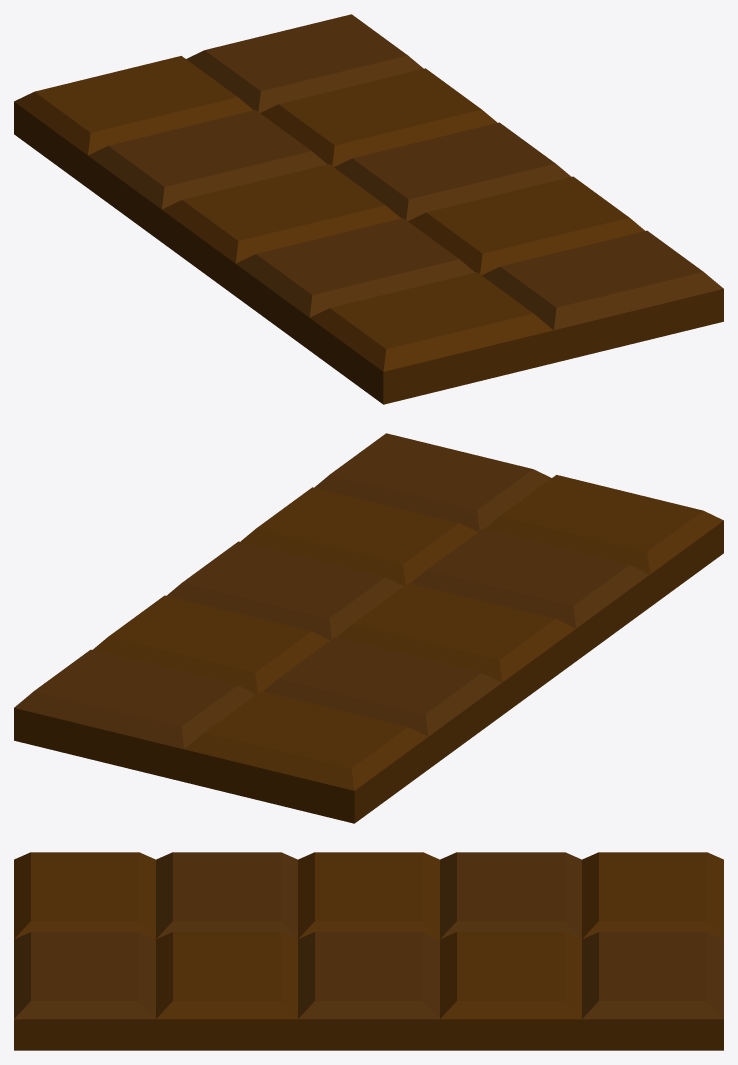
File: chocolateBar.fbx
3 renders of one model, top to bottom at view 1: azimuth 30°, elevation 25°; view 2: azimuth 150°, elevation 25°; view 3: azimuth 270°, elevation 25°, orthographic. The views are drawn at different scales.
Visible parts, largest first — view 1: Cube.040; view 2: Cube.040; view 3: Cube.040.
Boxes of the visible parts, x1,y1,x2,y2 form: Cube.040: (14,14,723,404); Cube.040: (14,433,723,823); Cube.040: (14,852,723,1050).
Size of the model in its own units: 97.19 by 17.26 by 183.
